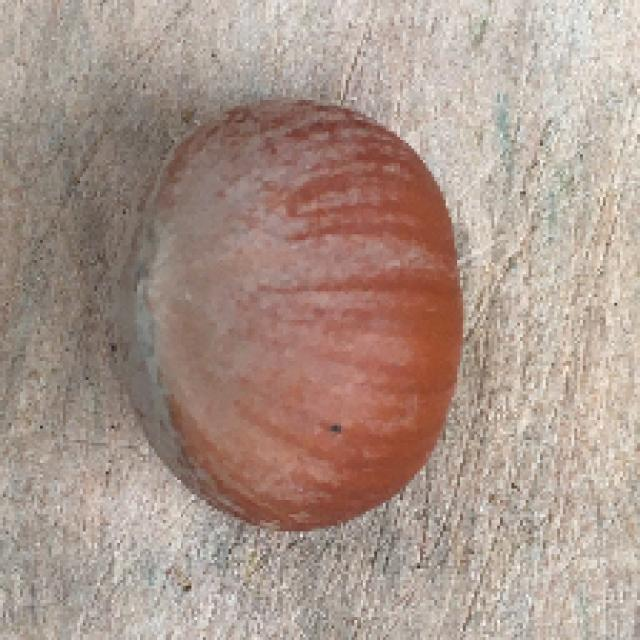qualityHazelnut: (111, 95, 466, 535)
